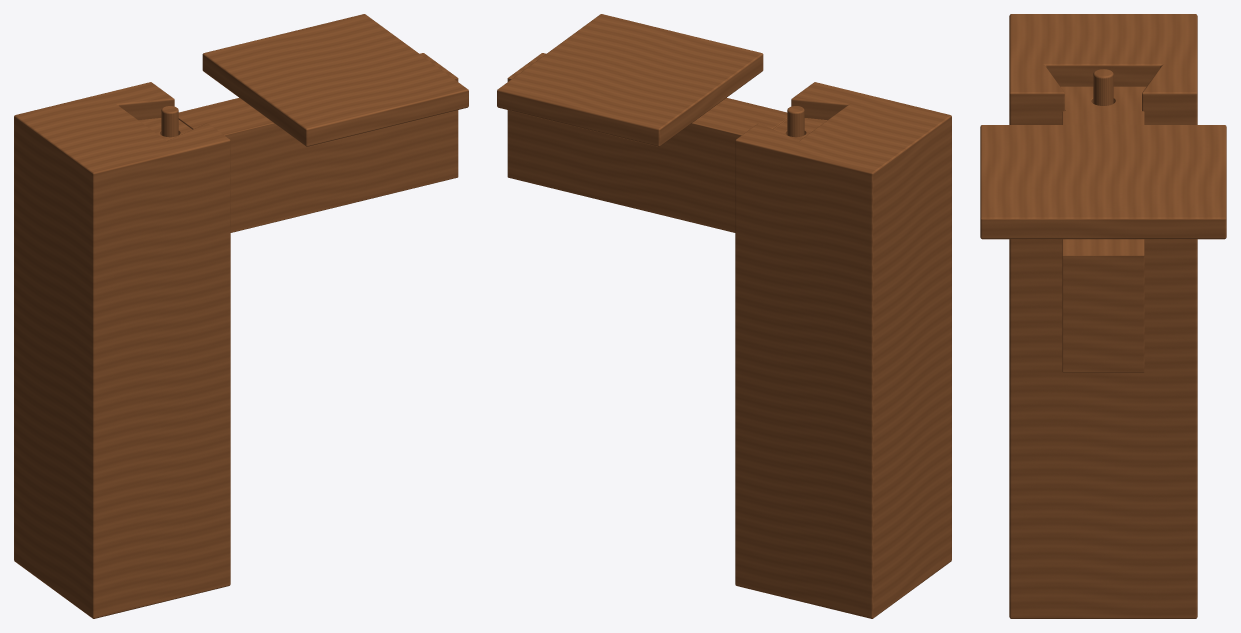
3 renders of one model, left to right at view 1: azimuth 30°, elevation 25°; view 2: azimuth 150°, elevation 25°; view 3: azimuth 270°, elevation 25°, orthographic. The views are drawn at different scales.
Parts seen in each view (by area): view 1: g2_post_01, g2_board_04, g2_beam_02; view 2: g2_post_01, g2_board_04, g2_beam_02; view 3: g2_post_01, g2_board_04, g2_beam_02, g2_column_03.
Boxes of the visible parts, x1,y1,x2,y2 form: g2_post_01: (14, 82, 230, 618); g2_board_04: (202, 14, 468, 146); g2_beam_02: (138, 53, 458, 232); g2_post_01: (735, 82, 951, 618); g2_board_04: (497, 14, 763, 146); g2_beam_02: (507, 53, 827, 232); g2_post_01: (1009, 14, 1197, 618); g2_board_04: (980, 125, 1226, 239); g2_beam_02: (1060, 86, 1146, 372); g2_column_03: (1093, 69, 1113, 105).
Bounding box in the file's own units: 2.82 × 3.15 × 1.31.
1 material, 1 textured.
